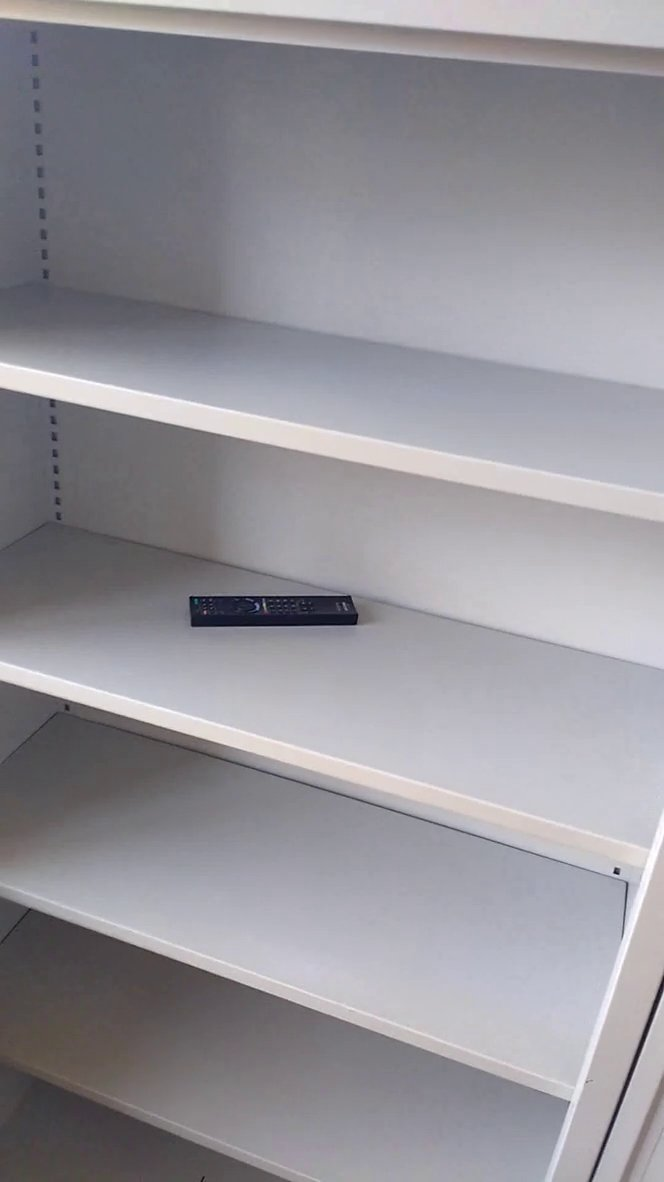remote: (176, 584, 369, 640)
